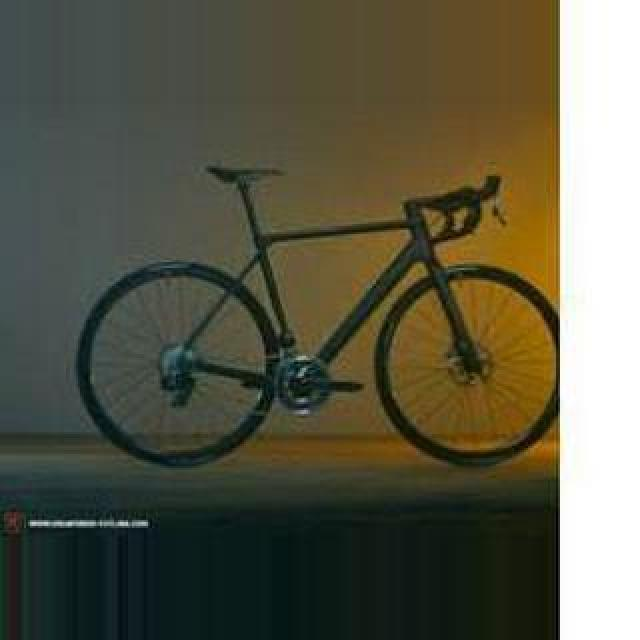Person: (76, 161, 562, 473)
